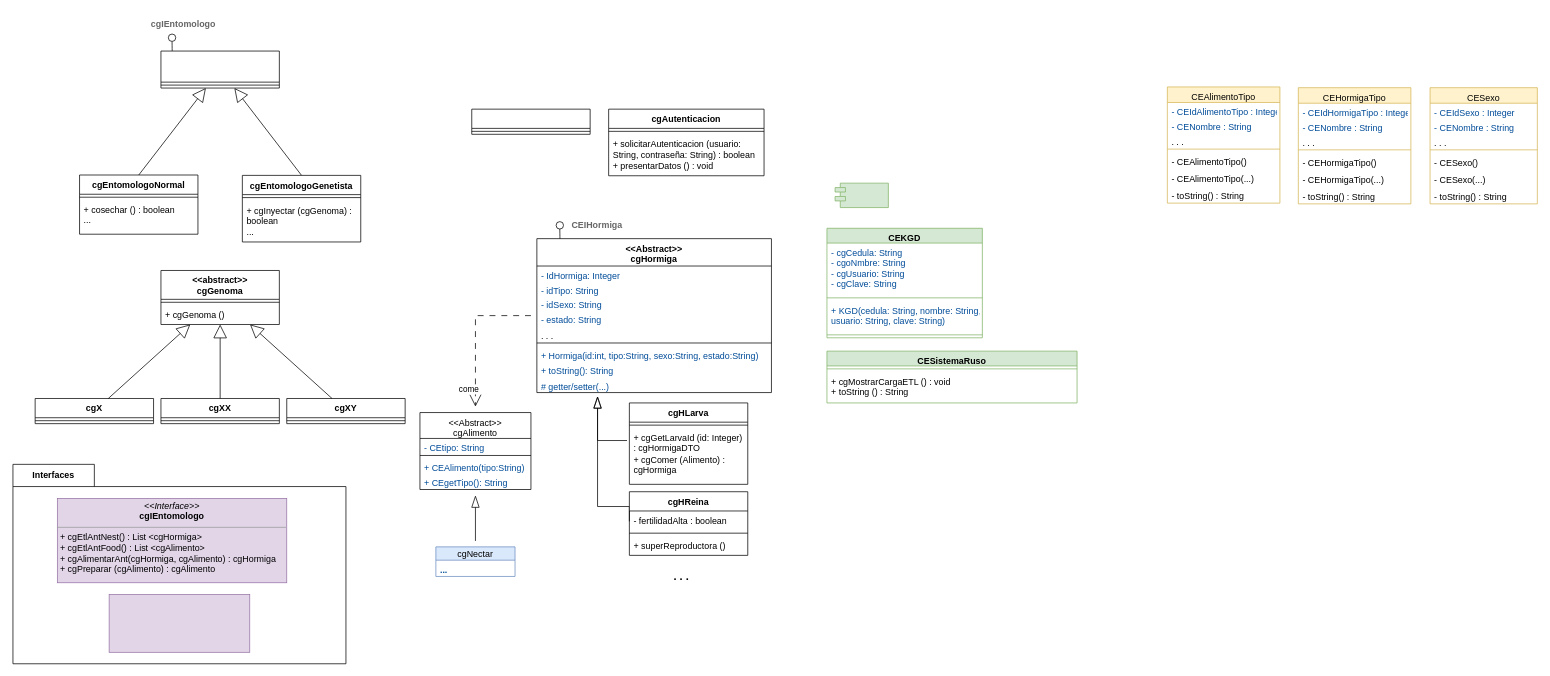
Some shapes in this 1550 by 676 pixel diagram are drawn without their labels. The shapes that lost their labels are listed below. From the top down, each one's centre as x and y in pixels, then its label:
(x=219, y=69): <<abstract>> cgEntomologo
(x=530, y=121): App
(x=861, y=195): Utility
(x=179, y=623): <<Interface>> cgIHormiga + comer(cg Alimento ): Boolean
